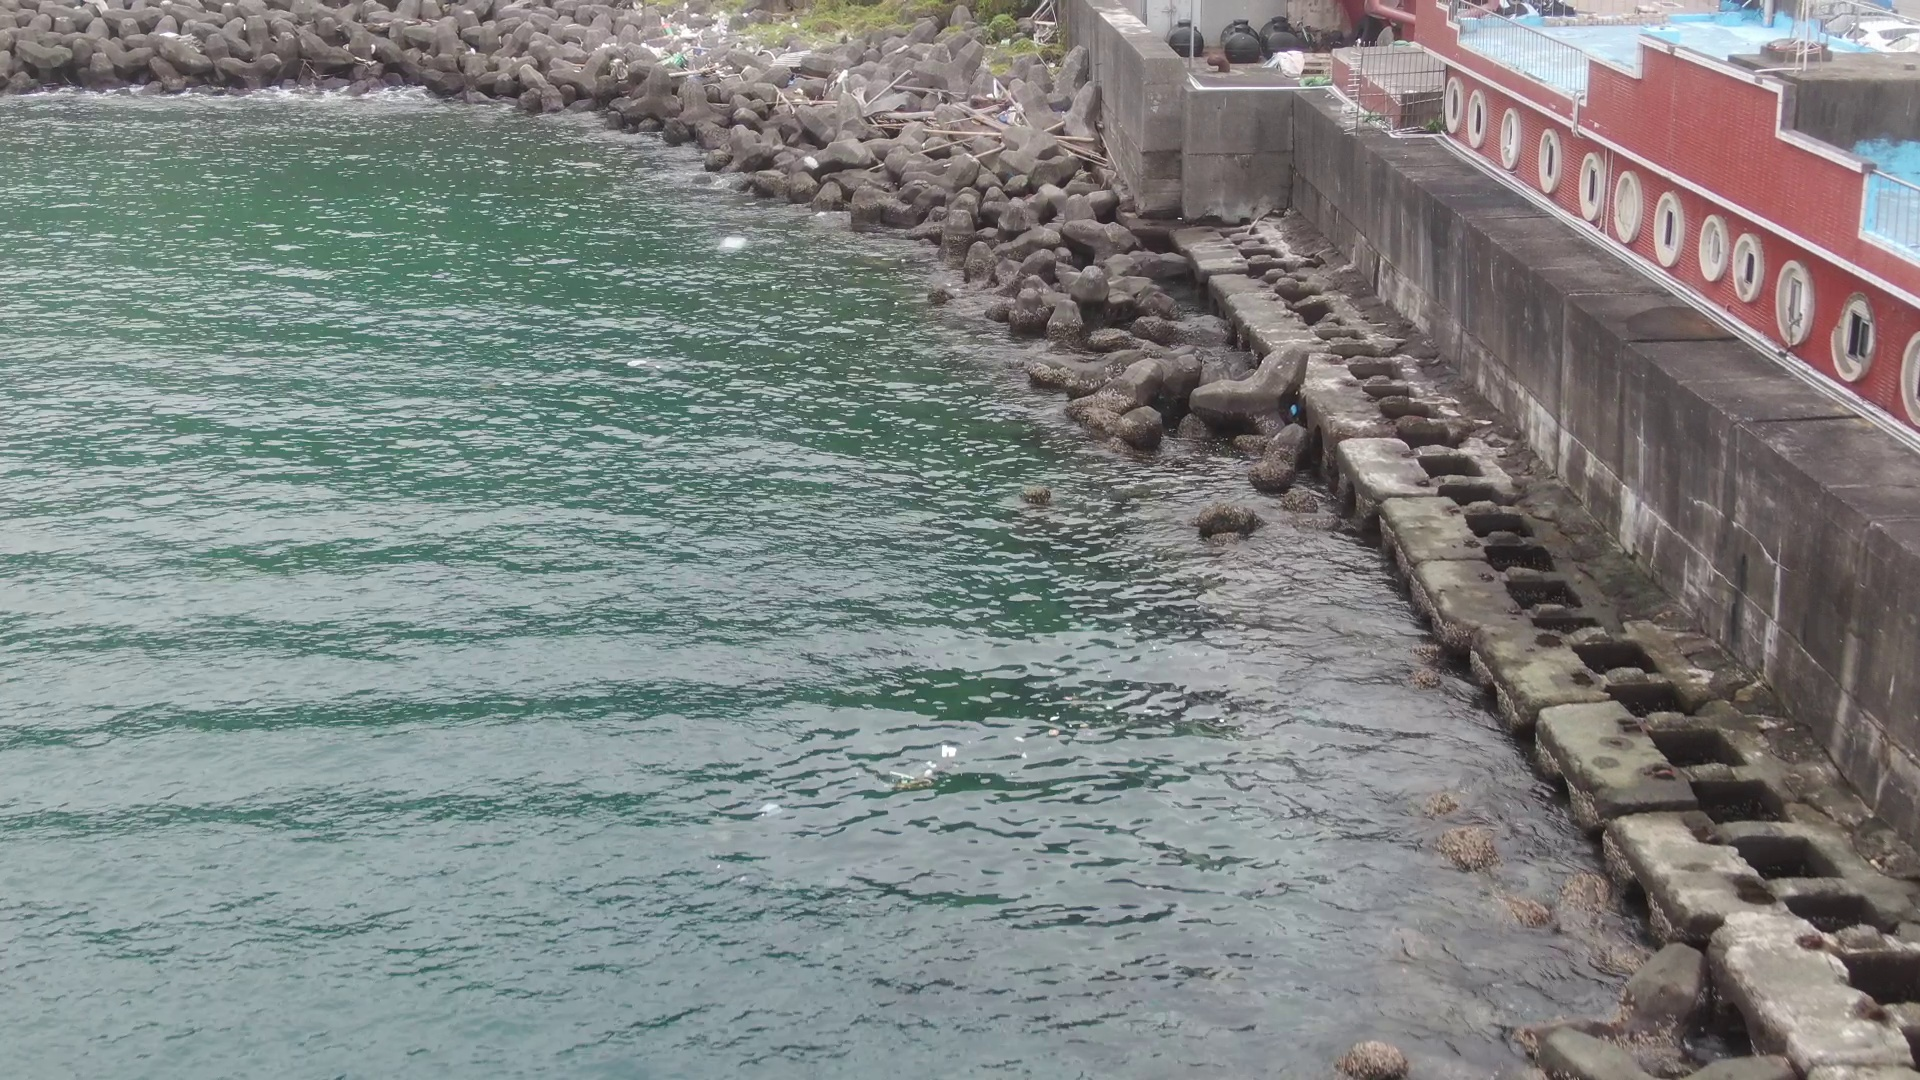garbage: (632, 5, 831, 88), (952, 74, 1047, 141)
